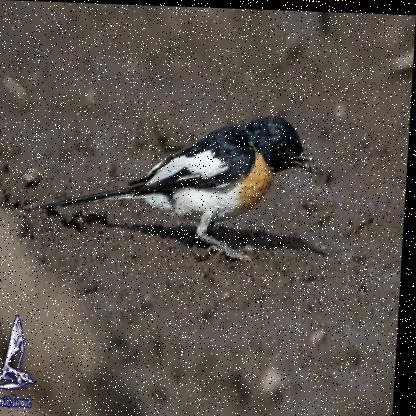Burung: (26, 106, 320, 261)
